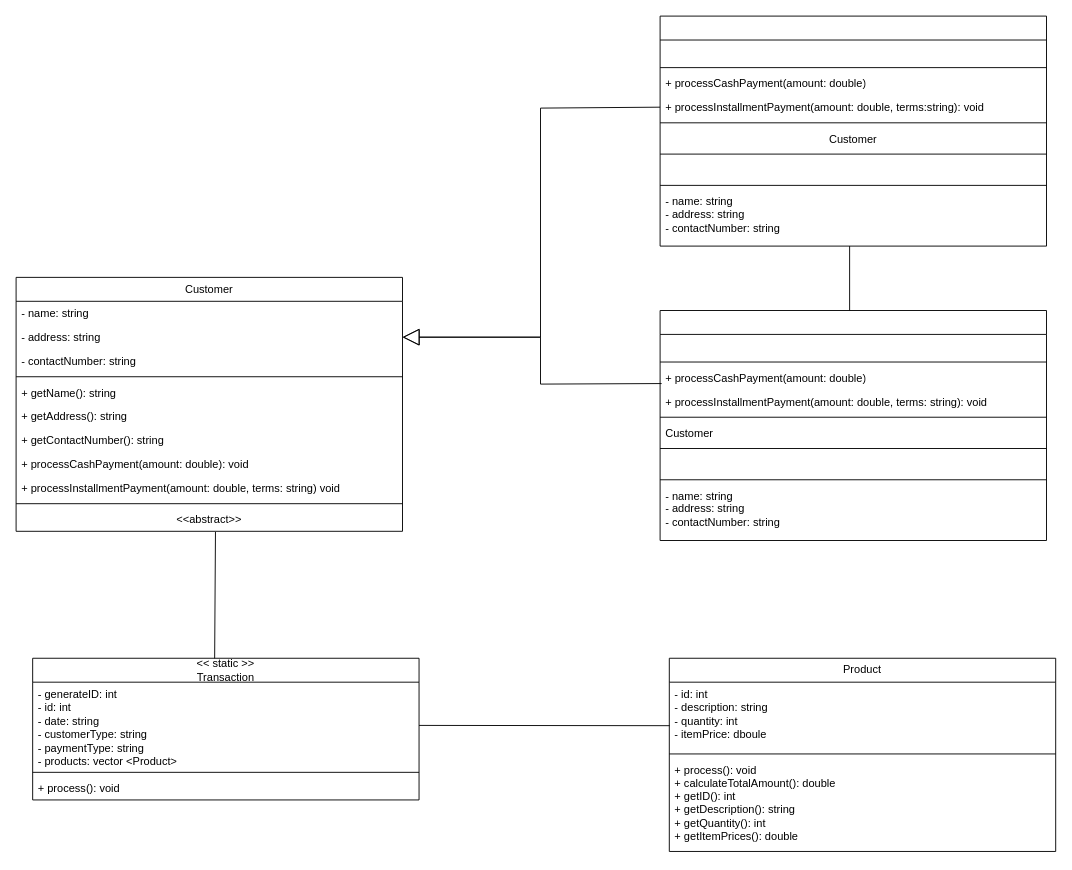
Some shapes in this 1072 by 870 pixel diagram are drawn without their labels. Each missing label, with the box of its shape:
RegularCustomer: (659, 310, 1046, 540)
RetailCustomer: (659, 15, 1046, 246)
